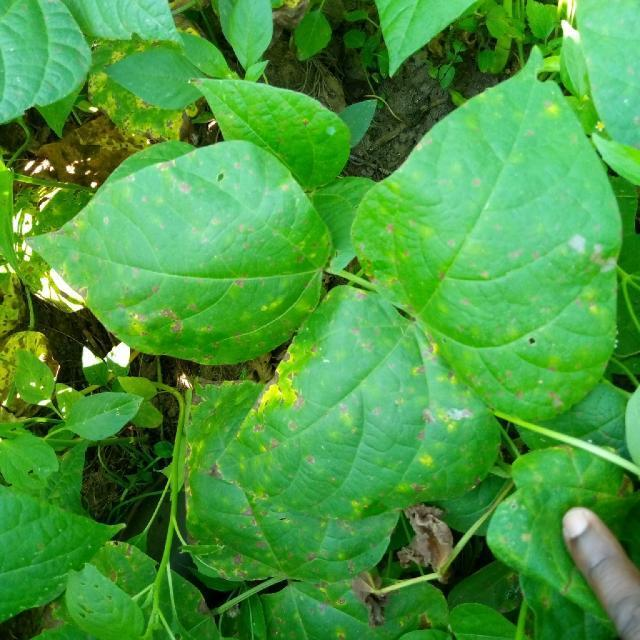hawar: (212, 341, 324, 499), (555, 218, 638, 380), (78, 153, 256, 217), (342, 223, 424, 312), (411, 392, 503, 462)
